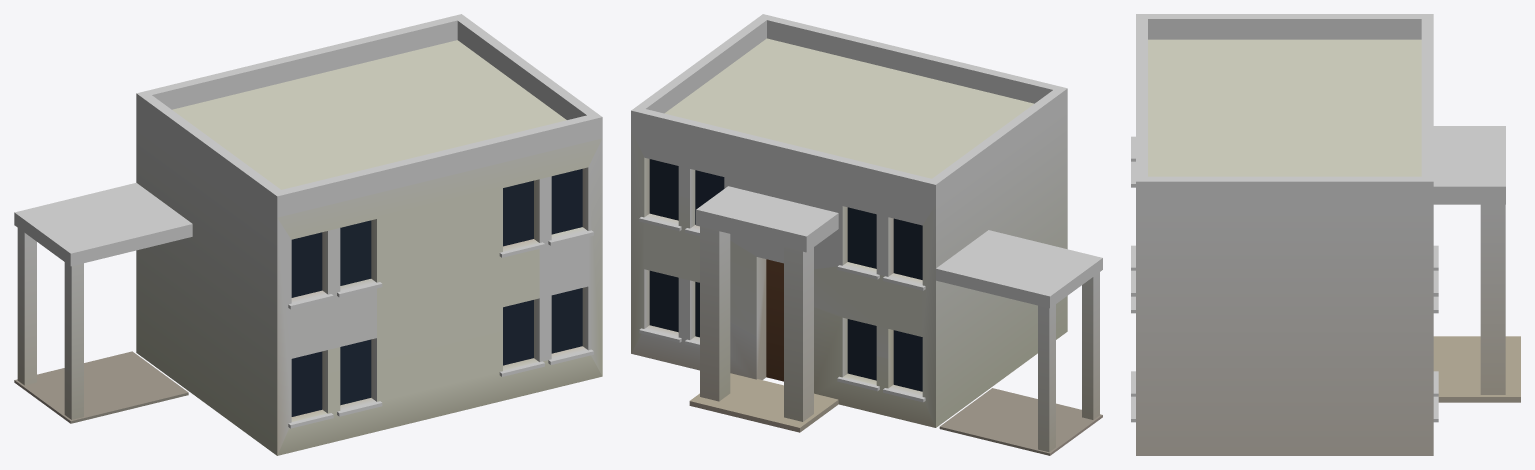
File: uae-villa.glb
3 views of the same model, side by side, from view 1: azimuth 30°, elevation 25°; view 2: azimuth 150°, elevation 25°; view 3: azimuth 270°, elevation 25° (orthographic). The views are drawn at different scales.
Parts seen in each view (by area): view 1: uae-villa; view 2: uae-villa; view 3: uae-villa.
Part boxes in pixels (box(x1,y1,x2,y2)): uae-villa: box(14, 14, 602, 455); uae-villa: box(631, 14, 1102, 455); uae-villa: box(1131, 14, 1520, 455).
Size of the model in its own units: 5.5 by 3.05 by 3.93.
